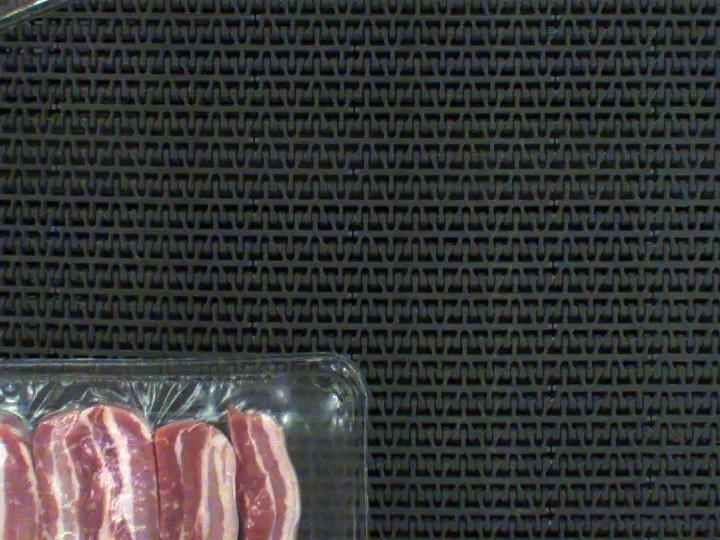unsealed: (0, 380, 325, 540)
